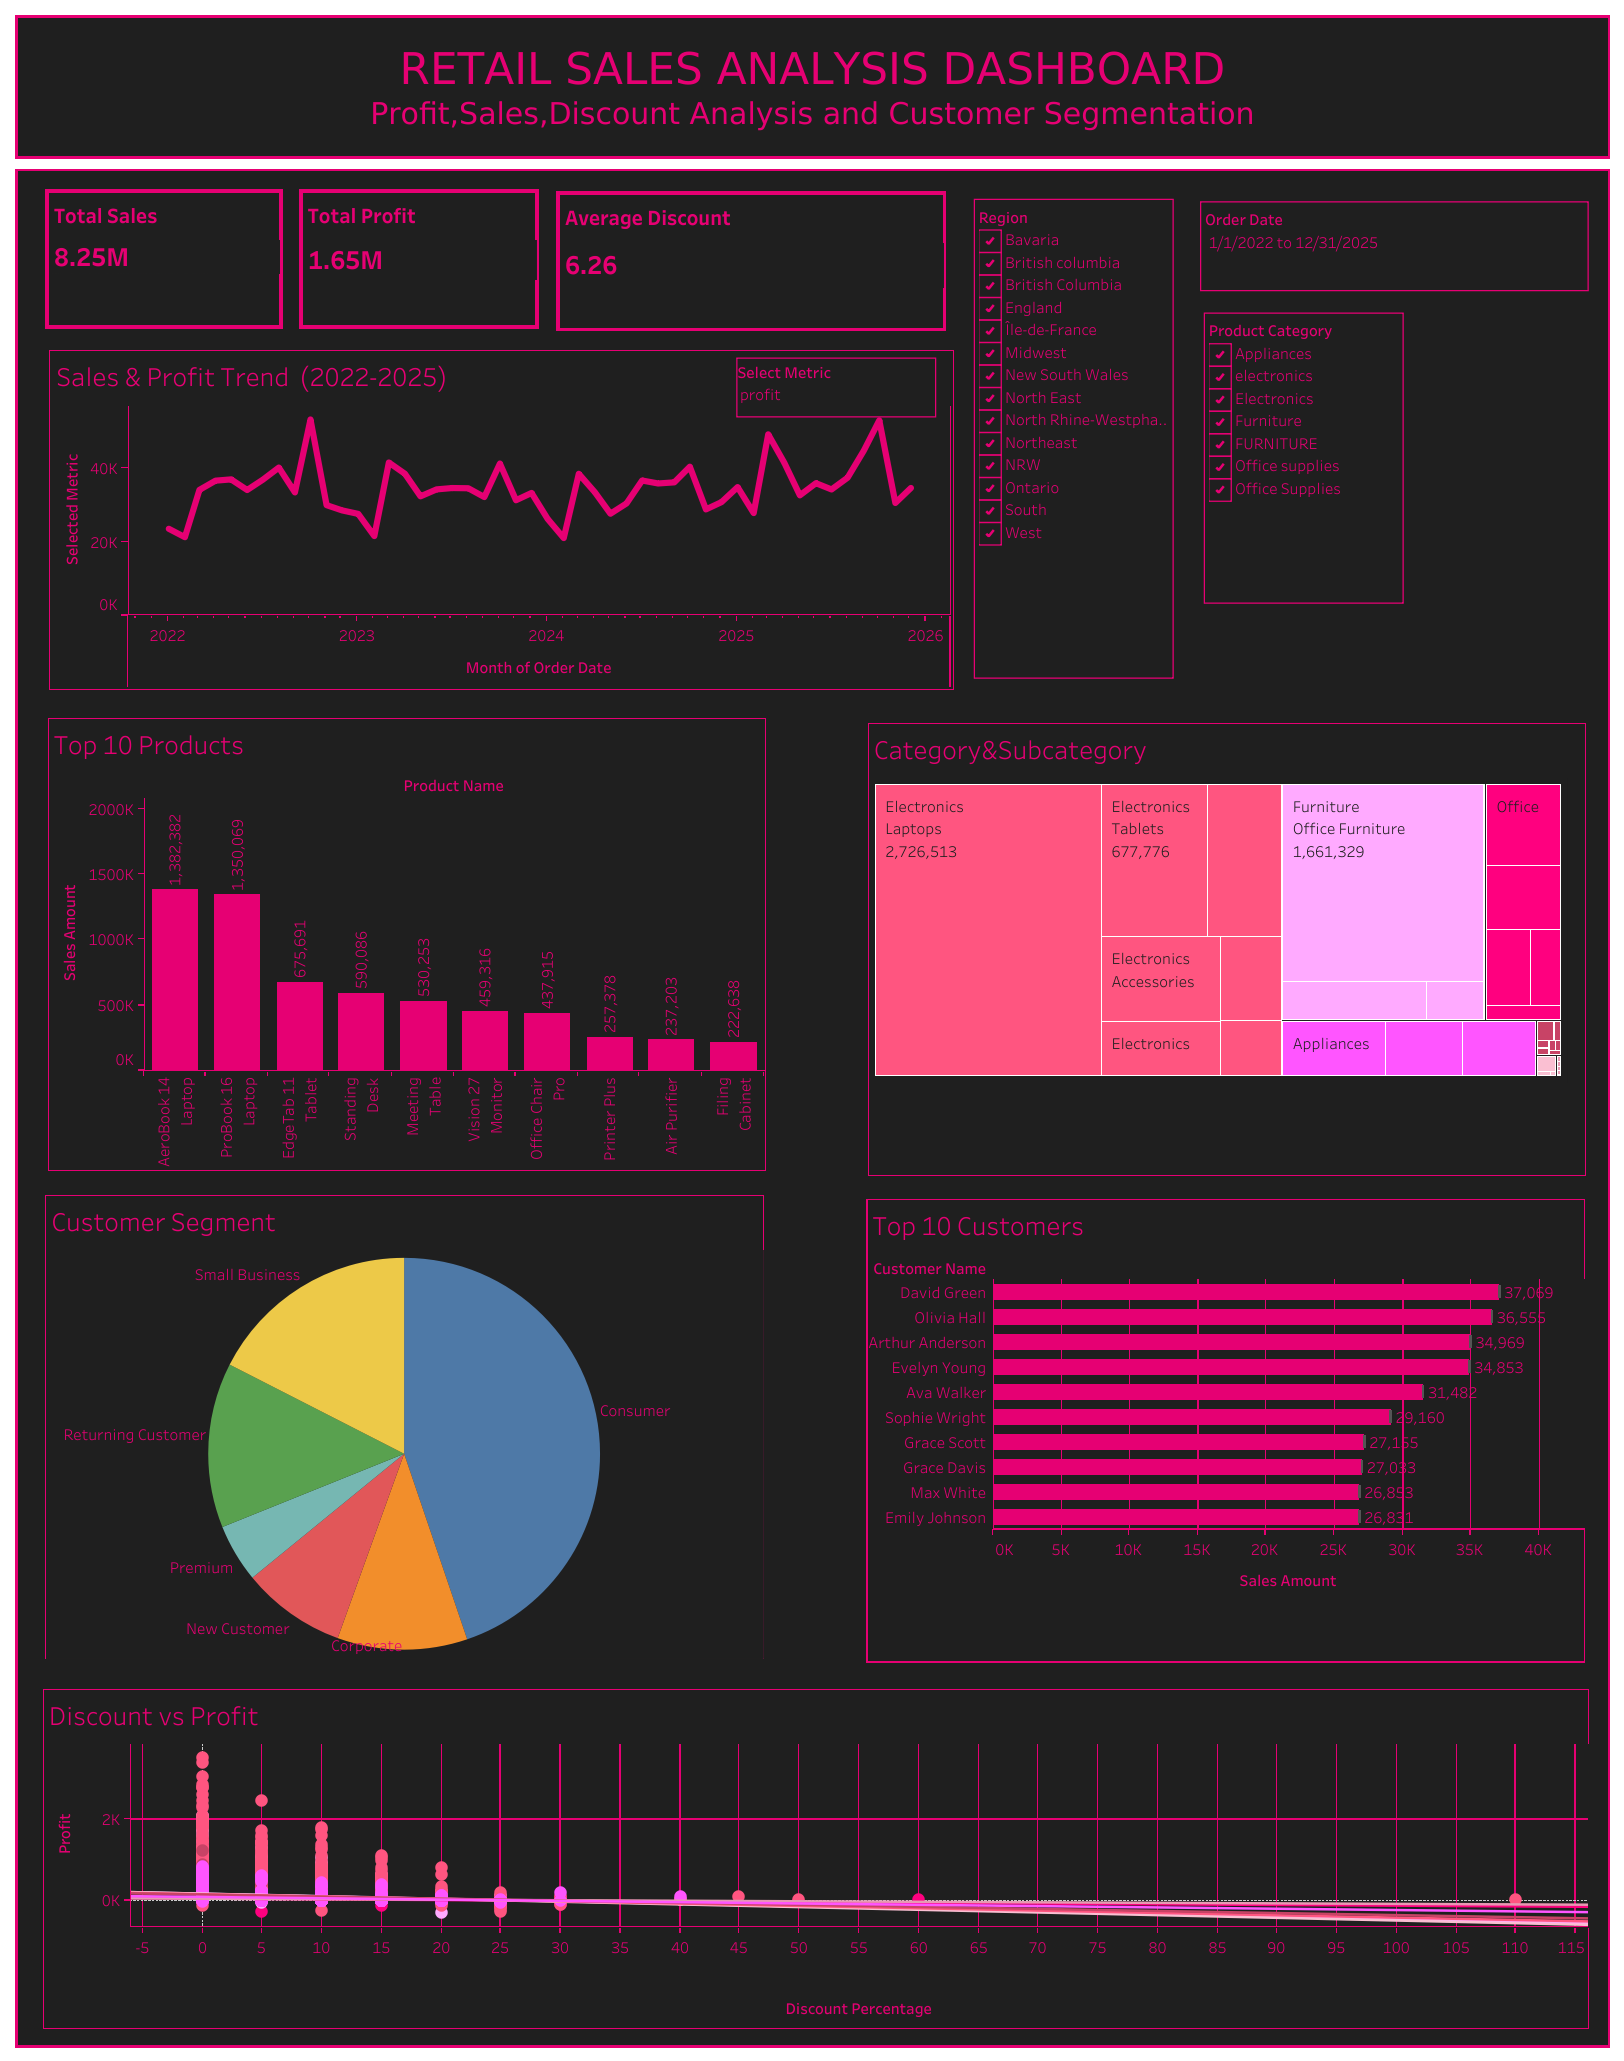

The dashboard page shown, as its layout file describes it:
{"tool":"tableau","page":{"name":"Retail_Sales_Performance_Dashboard","canvas":[1300,1650],"ordinal":1},"visuals":[{"type":"title","box":[8,8,1284,123]},{"type":"blank","box":[8,131,1284,1511]},{"type":"worksheet","title":"KPI-Total Sales","mark":"Automatic","box":[36,151,190,112]},{"type":"worksheet","title":"KPI-Total Profit","mark":"Automatic","box":[239,151,192,112]},{"type":"worksheet","title":"KPI-Average Discount","mark":"Text","box":[445,153,312,112]},{"type":"filter","title":"Sales & Profit Trend","param":"[federated.1cyw8g90ju4li018u4iyp08nj9qf].[none:Region:nk]","box":[779,159,160,384]},{"type":"filter","title":"Sales & Profit Trend","param":"[federated.1cyw8g90ju4li018u4iyp08nj9qf].[none:Order_Date:qk]","box":[960,161,311,72]},{"type":"filter","title":"Sales & Profit Trend","param":"[federated.1cyw8g90ju4li018u4iyp08nj9qf].[none:Product_Category:nk]","box":[963,250,160,233]},{"type":"worksheet","title":"Sales & Profit Trend","mark":"Line","rows":["Calculation_1026716154703877"],"cols":["Order_Date"],"box":[39,280,724,272]},{"type":"parameter","param":"[Parameters].[Parameter 1026716154462212]","box":[589,286,160,48]},{"type":"worksheet","title":"Top 10 Products","mark":"Automatic","rows":["Sales_Amount"],"cols":["Product_Name"],"box":[38,574,575,363]},{"type":"worksheet","title":"Category&Subcategory","mark":"Automatic","box":[694,578,575,363]},{"type":"worksheet","title":"Customer Segment","mark":"Pie","box":[36,956,575,371]},{"type":"worksheet","title":"Top 10 Customers","mark":"Automatic","rows":["Customer_Name"],"cols":["Sales_Amount"],"box":[693,959,575,371]},{"type":"worksheet","title":"Discount vs Profit","mark":"Circle","rows":["Profit"],"cols":["Discount_Percentage"],"box":[34,1351,1237,272]}]}

Visuals, with their boxes in screenshot pixels (x1, y1, x2, y2), scaled from the page's 1300x1650 canvas onto the 1624x2061 screenshot:
title: <box>10,10,1614,164</box>
blank: <box>10,164,1614,2051</box>
"KPI-Total Sales" worksheet: <box>45,189,282,329</box>
"KPI-Total Profit" worksheet: <box>299,189,538,329</box>
"KPI-Average Discount" worksheet (Text marks): <box>556,191,946,331</box>
"Sales & Profit Trend" filter: <box>973,199,1173,678</box>
"Sales & Profit Trend" filter: <box>1199,201,1588,291</box>
"Sales & Profit Trend" filter: <box>1203,312,1403,603</box>
"Sales & Profit Trend" worksheet (Line marks): <box>49,350,953,689</box>
parameter: <box>736,357,936,417</box>
"Top 10 Products" worksheet: <box>47,717,766,1170</box>
"Category&Subcategory" worksheet: <box>867,722,1585,1175</box>
"Customer Segment" worksheet (Pie marks): <box>45,1194,763,1658</box>
"Top 10 Customers" worksheet: <box>866,1198,1584,1661</box>
"Discount vs Profit" worksheet (Circle marks): <box>42,1688,1588,2027</box>
